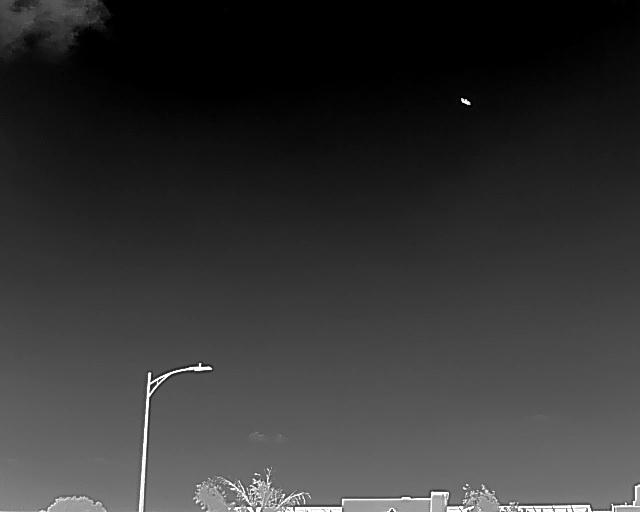fpv-drone: (460, 97, 471, 106)
